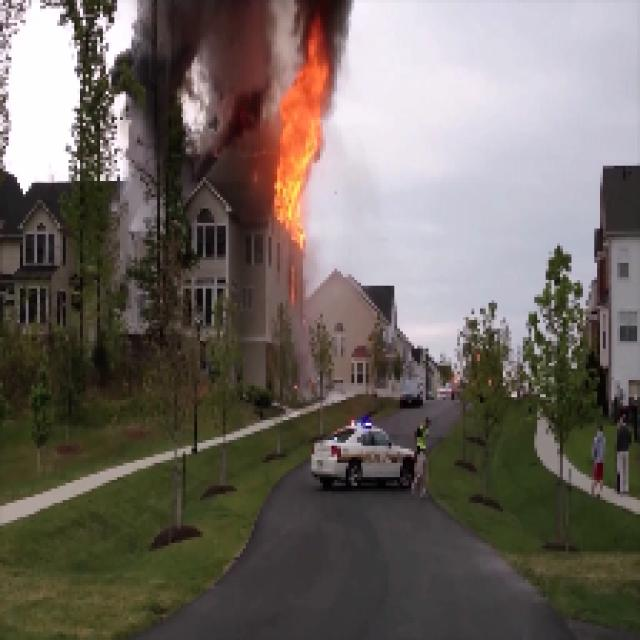fire: (265, 52, 324, 225)
smoke: (145, 6, 258, 123)
